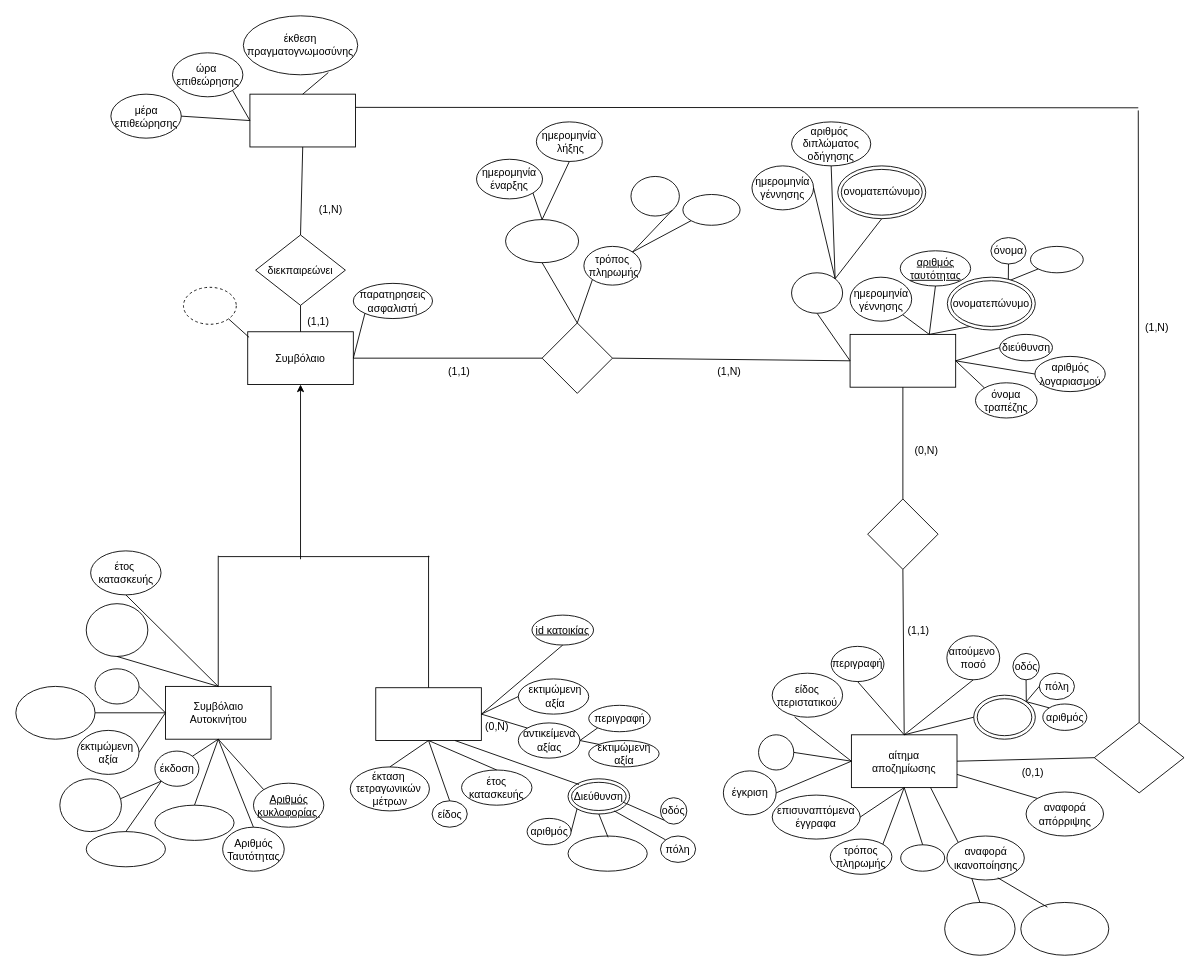
This 1199x971 diagram has some shape labels left out. Here are the shapes that lost their labels. From the top down, the centre of each, then its label:
At [302,120]: "Ασφαλιστής".
At [654,196]: "εφάπαξ".
At [711,209]: "με δόσεις".
At [542,241]: "περίοδος ασφαλιστικής κάλυψης".
At [1056,259]: "επώνυμο".
At [209,305]: "κόστος".
At [817,292]: "στοιχεία οδηγού".
At [576,357]: "έχει".
At [902,360]: "Πελάτης".
At [902,533]: "κάνει".
At [116,629]: "είδος πακέτου ασφάλισης".
At [116,686]: "μοντέλο".
At [55,712]: "έτος 1ης άδειας κυκλοφορίας".
At [428,714]: "συμβόλαιο κατοικίας".
At [1004,716]: "τοποθεσία".
At [776,752]: "ώρα".
At [1138,757]: "εγκρίνει".
At [90,805]: "κυβικά εκατοστά κινητήρα".
At [194,822]: "κατασκευαστής".
At [125,849]: "φορολογήσιμοι ίπποι".
At [607,853]: "ταχυδρομικός κώδικας".
At [922,857]: "ημέρα".
At [979,928]: "ποσό αποζημίωσης".
At [1064,928]: "τρόπος πληρωμής αποζημίωσης".
